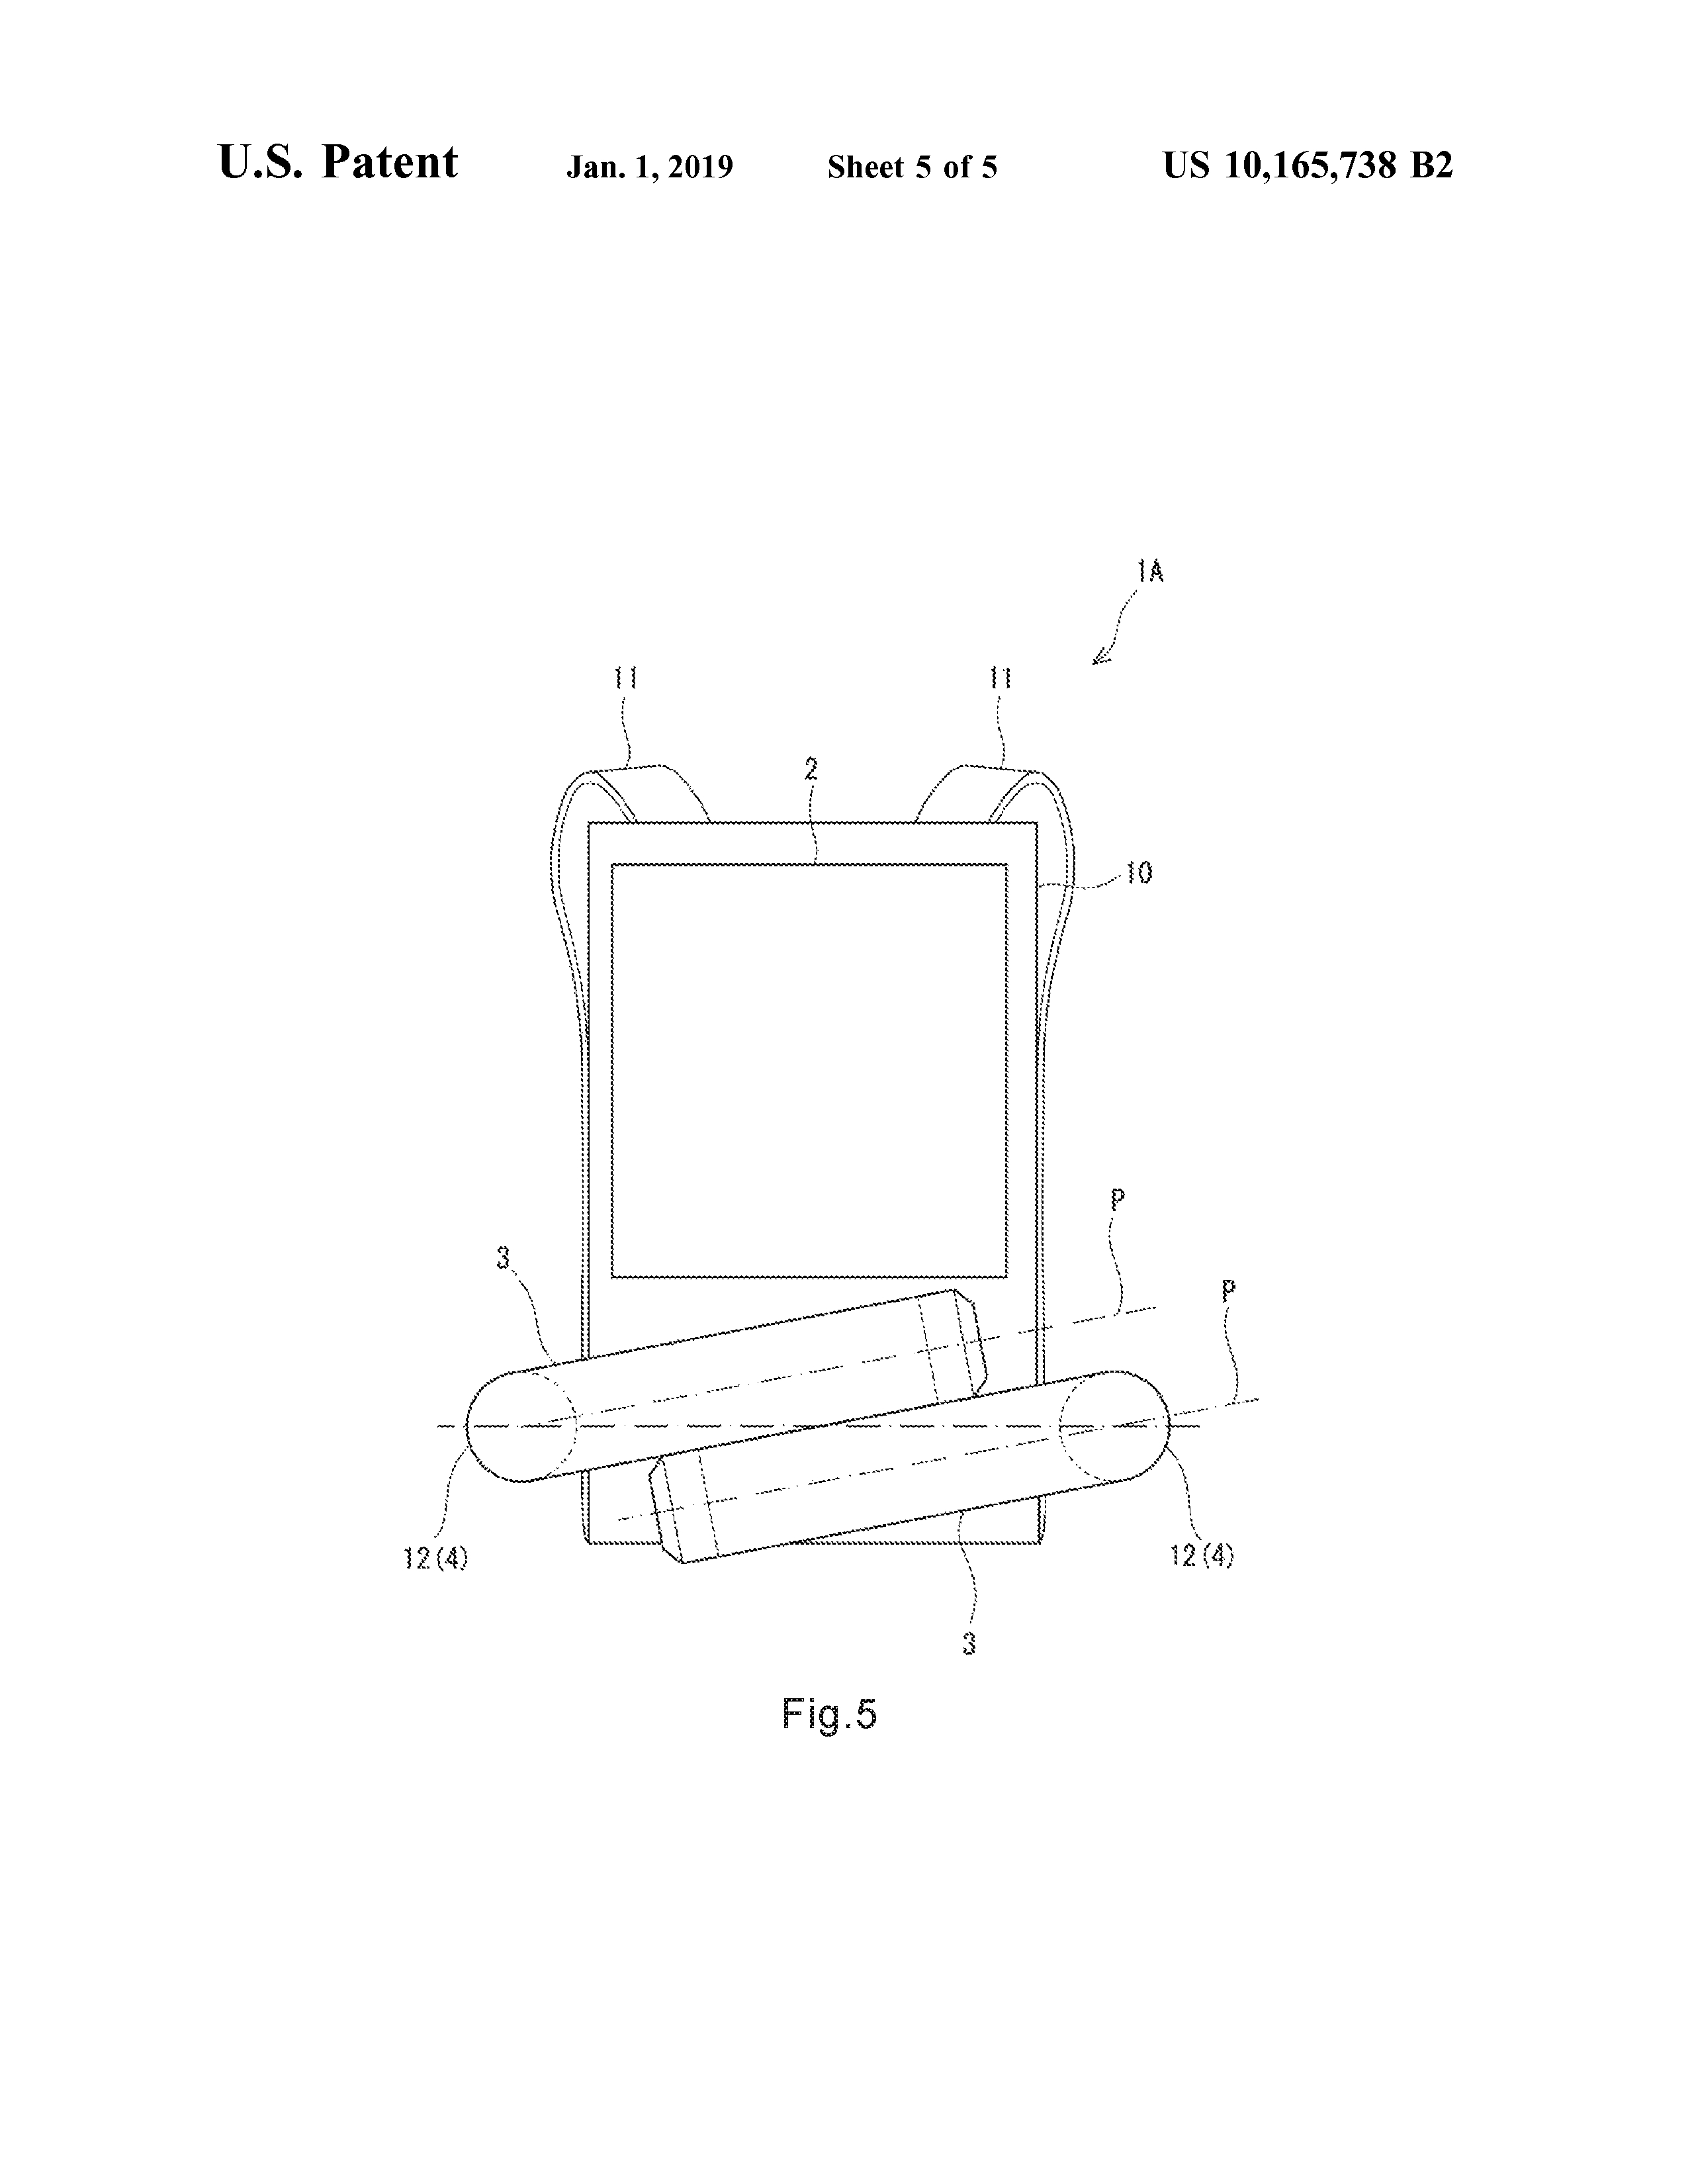patent image: (377, 521, 1312, 1773)
